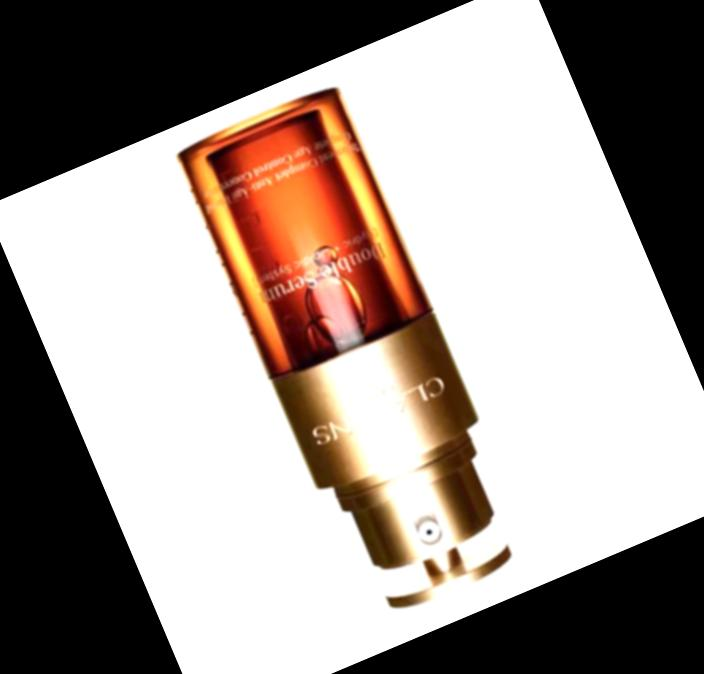cosmetic: (173, 83, 546, 632)
